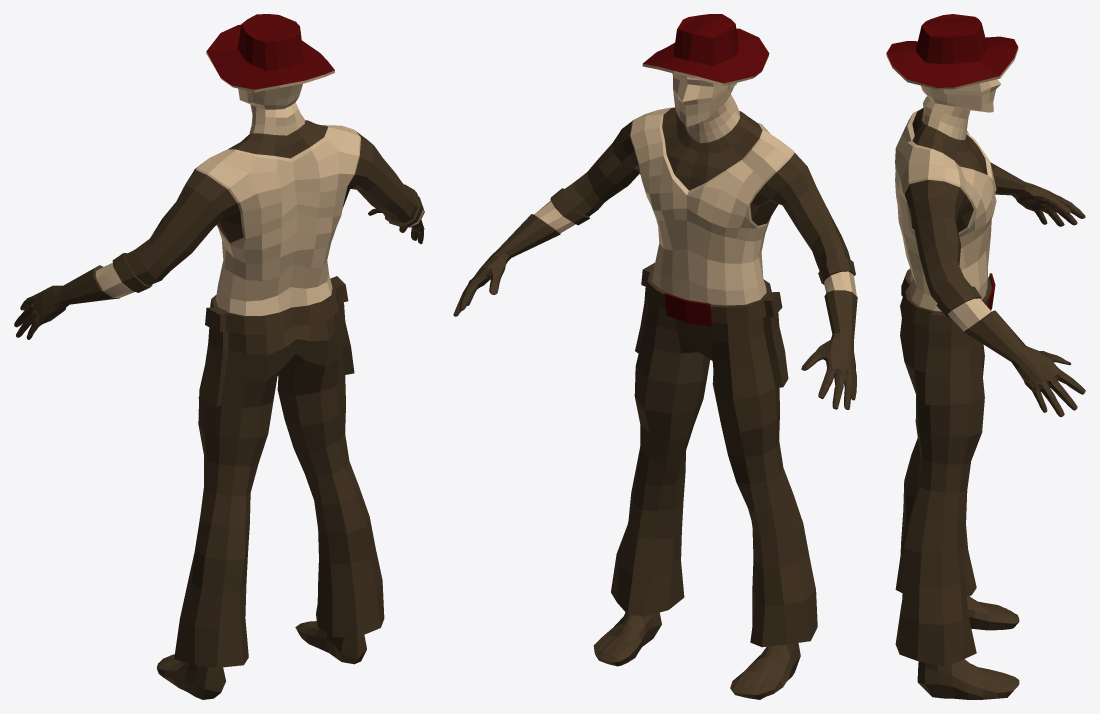
The model's file is cowboy.fbx.
The picture shows the model from 3 angles, left to right: view 1: azimuth 30°, elevation 25°; view 2: azimuth 150°, elevation 25°; view 3: azimuth 270°, elevation 25°; orthographic projection.
Parts seen in each view (by area): view 1: cowboy; view 2: cowboy; view 3: cowboy.
Boxes of the visible parts, left/top/right/bottom form: cowboy: left=14, top=14, right=424, bottom=699; cowboy: left=453, top=14, right=857, bottom=699; cowboy: left=886, top=14, right=1085, bottom=699.
Size of the model in its own units: 0.6471 by 1 by 0.2837.
